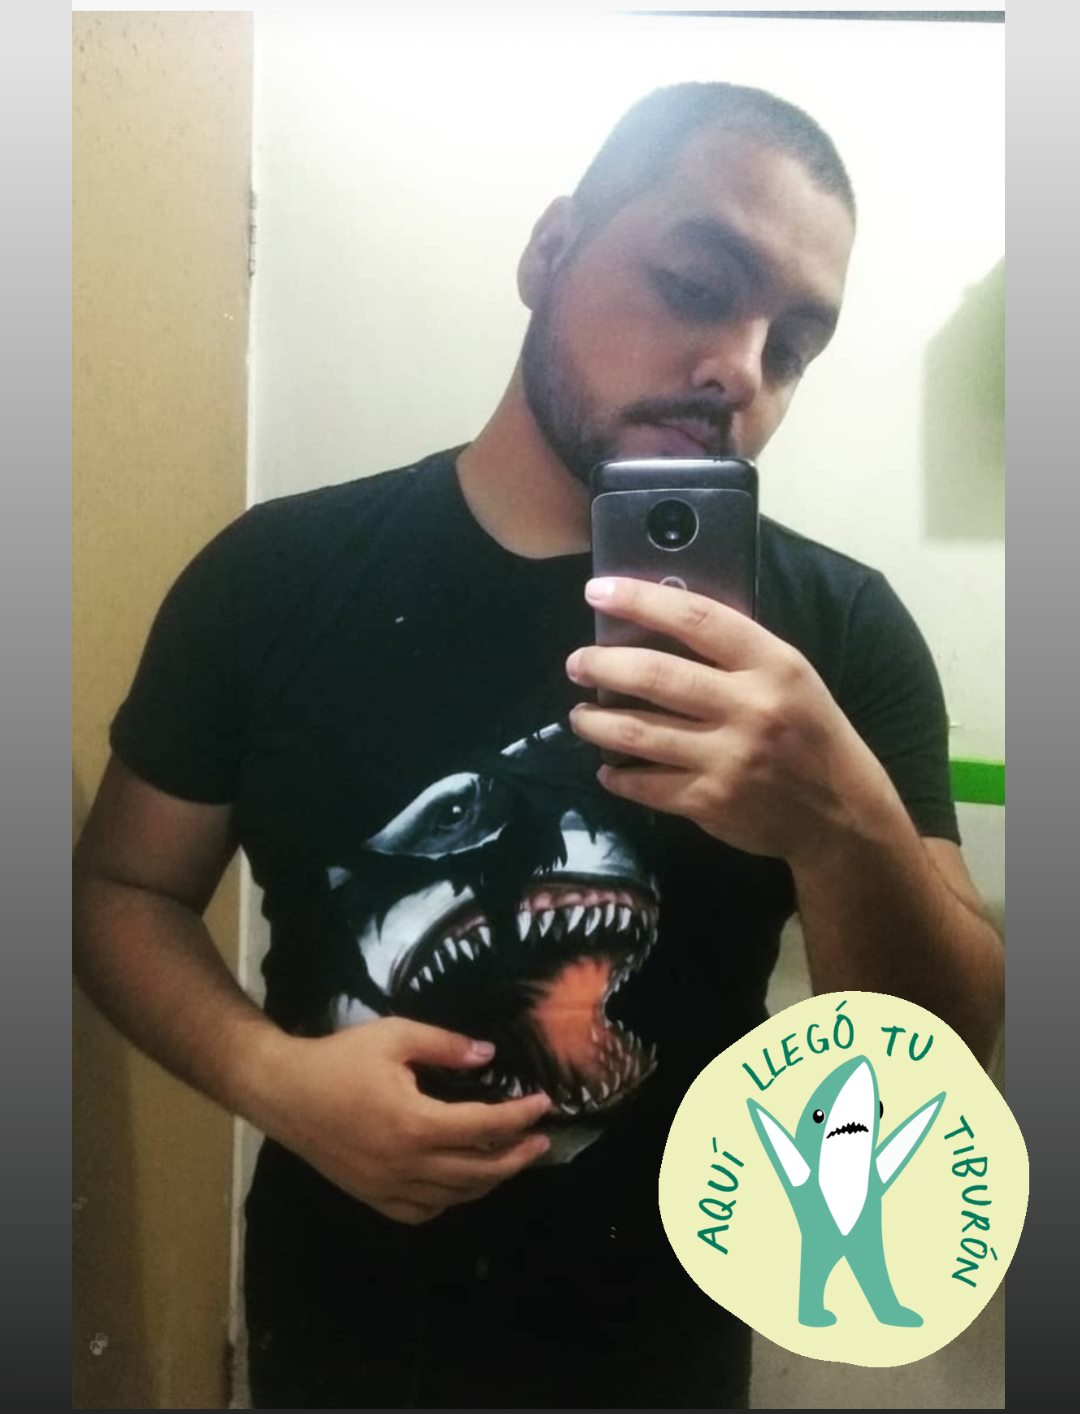Yoshi: (204, 63, 972, 1092)
